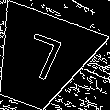L_S: (14, 31, 67, 89)
